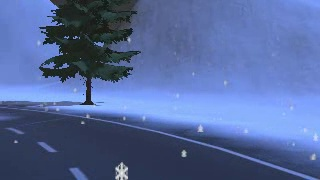Lane: (1, 107, 319, 179)
